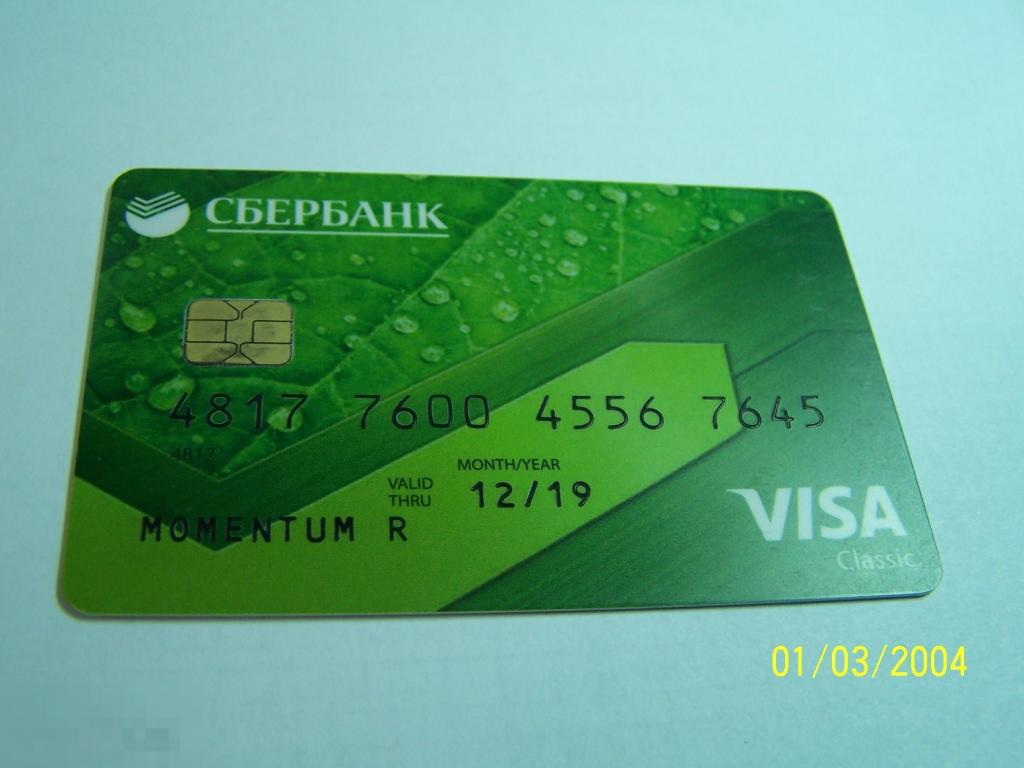card: (57, 170, 941, 623)
